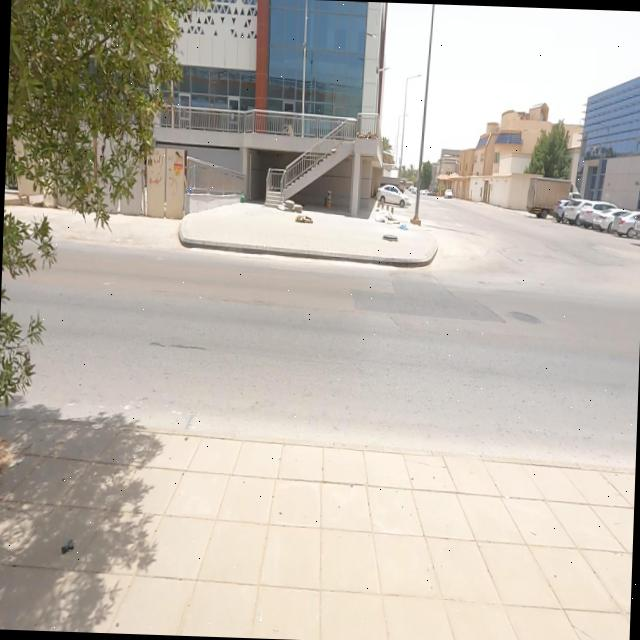Graffiti: (149, 153, 164, 187), (169, 178, 179, 197)
